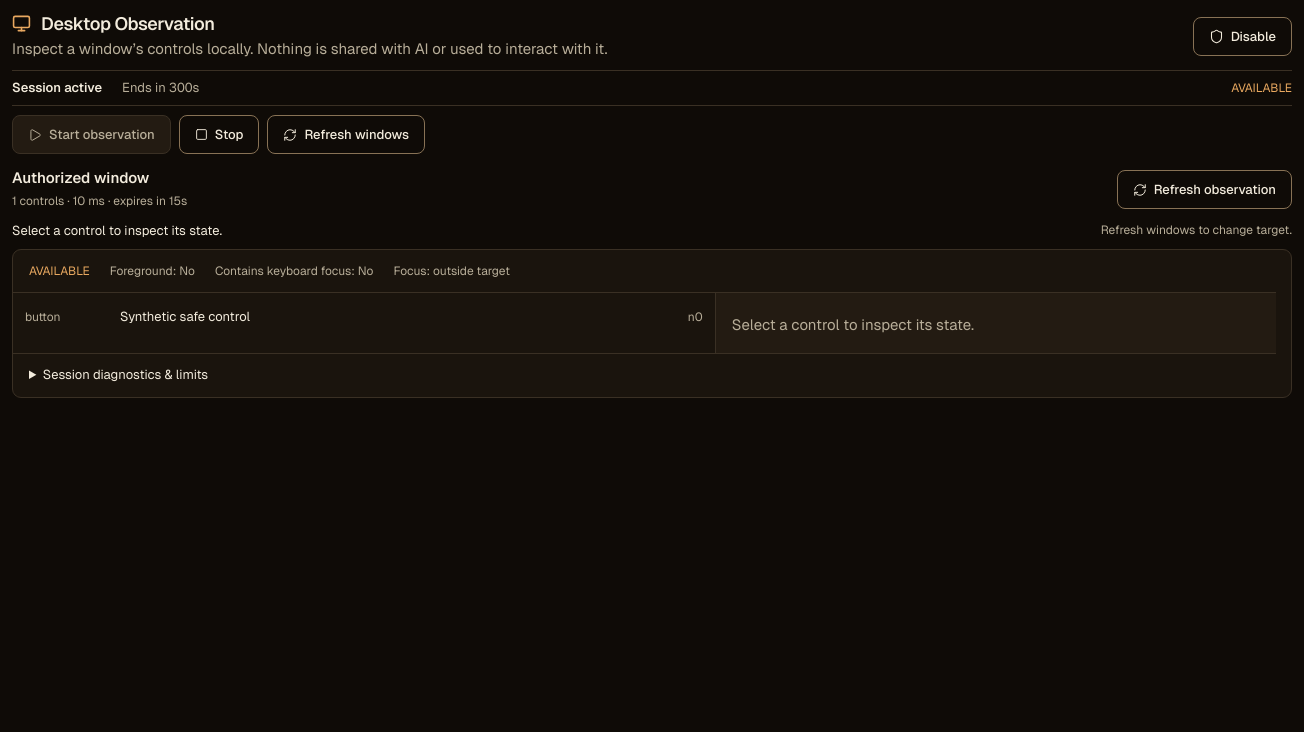
Test case: ends and clears before saving revocation, including pending native work
Click the button with aria-label "Disable Desktop Observation" at (1242, 37), box x1=1193 y1=17 x2=1292 y2=56
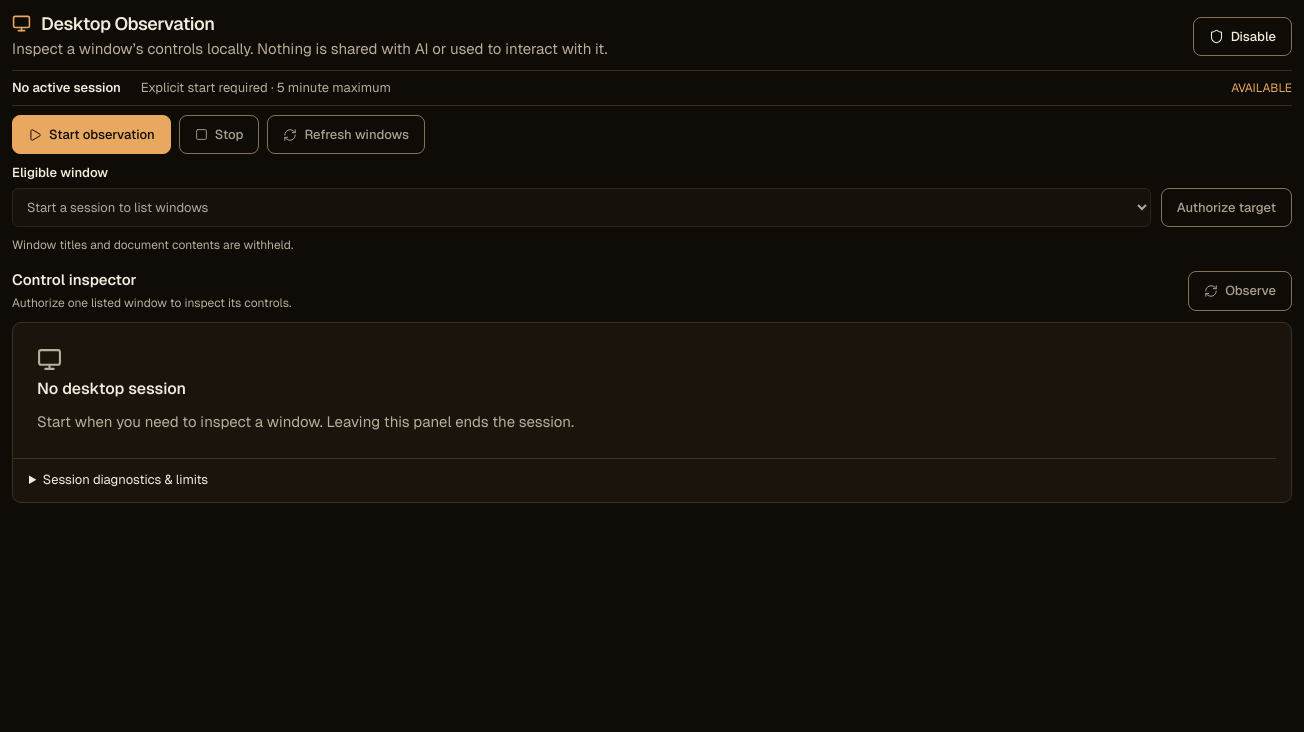
Expected: the button "Synthetic safe control" is gone
